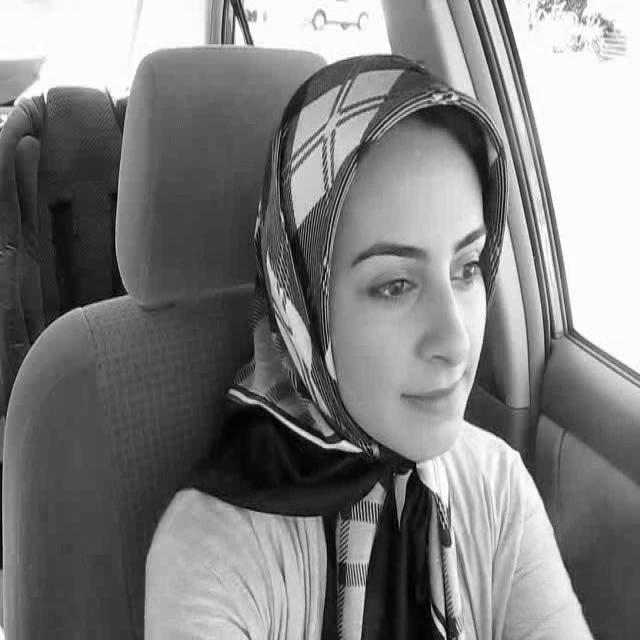no_yawn: (143, 23, 640, 640)
